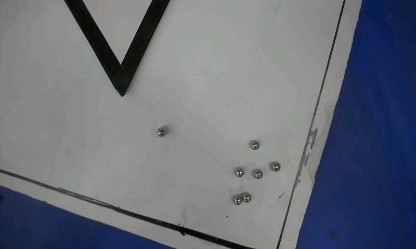ironball: (268, 161, 280, 171), (249, 139, 258, 150), (232, 195, 241, 205), (241, 192, 250, 202), (252, 169, 262, 178), (235, 167, 243, 177), (157, 127, 165, 137)
